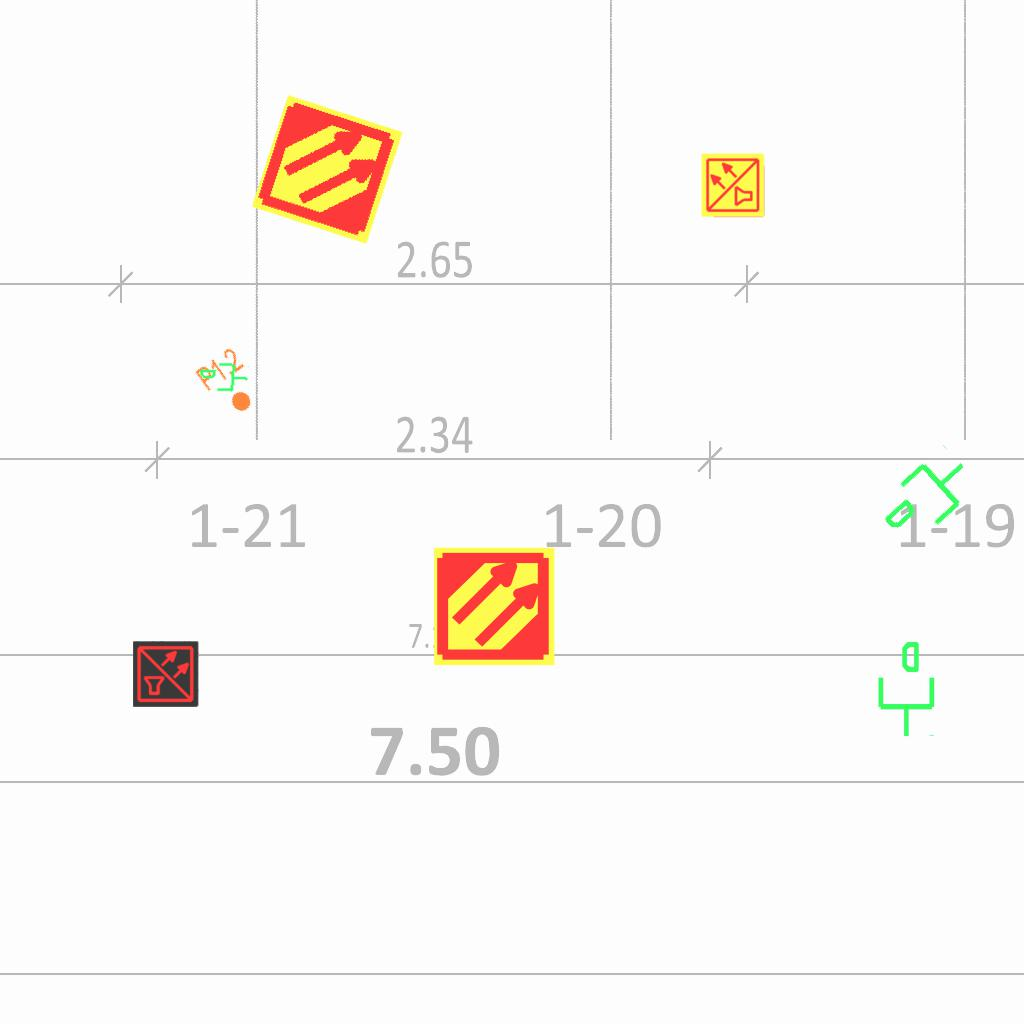ASR_Ansaugrauchmelder: (248, 90, 407, 249), (432, 544, 557, 669)
Datenanschluss_einfach: (868, 438, 989, 558), (870, 639, 939, 739), (197, 359, 251, 397)
Downlight_LED_Einbauleuchten_Flur: (192, 344, 268, 424)
OKW_Multisensormelder_(Kombination_optischer_Rauch-Kahlenmonoxid_Waerme-Melder): (133, 641, 199, 707), (700, 152, 766, 218)
